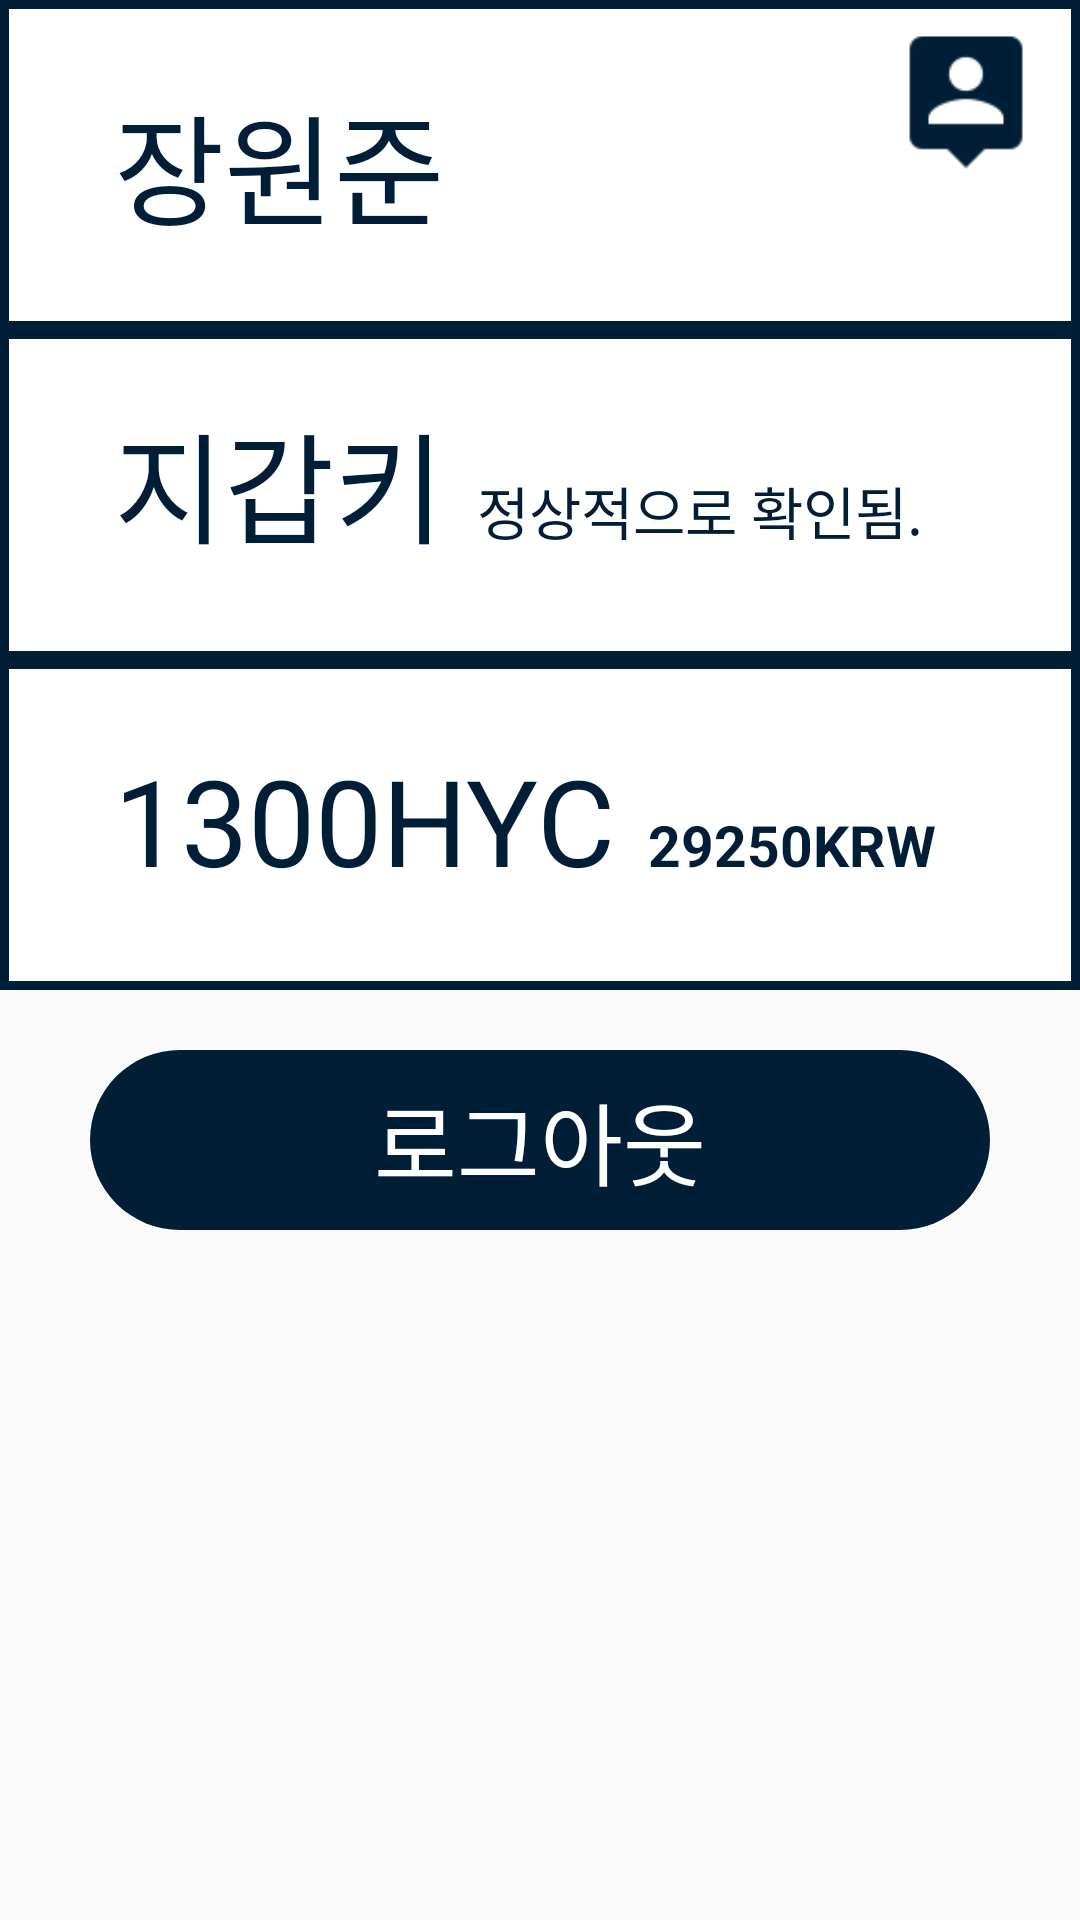

Icon click points for this 1080px x 1920px phone screenshot, format point (x, y):
person pin: point (966, 102)
